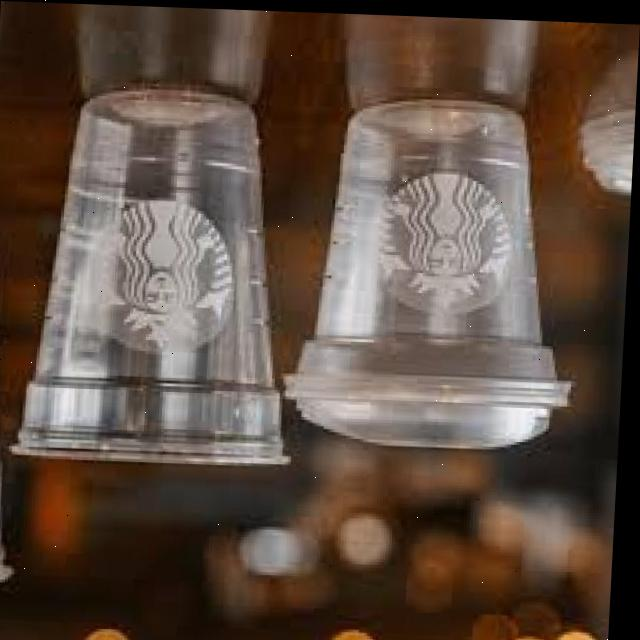cup: (9, 50, 322, 511), (279, 71, 605, 439)
